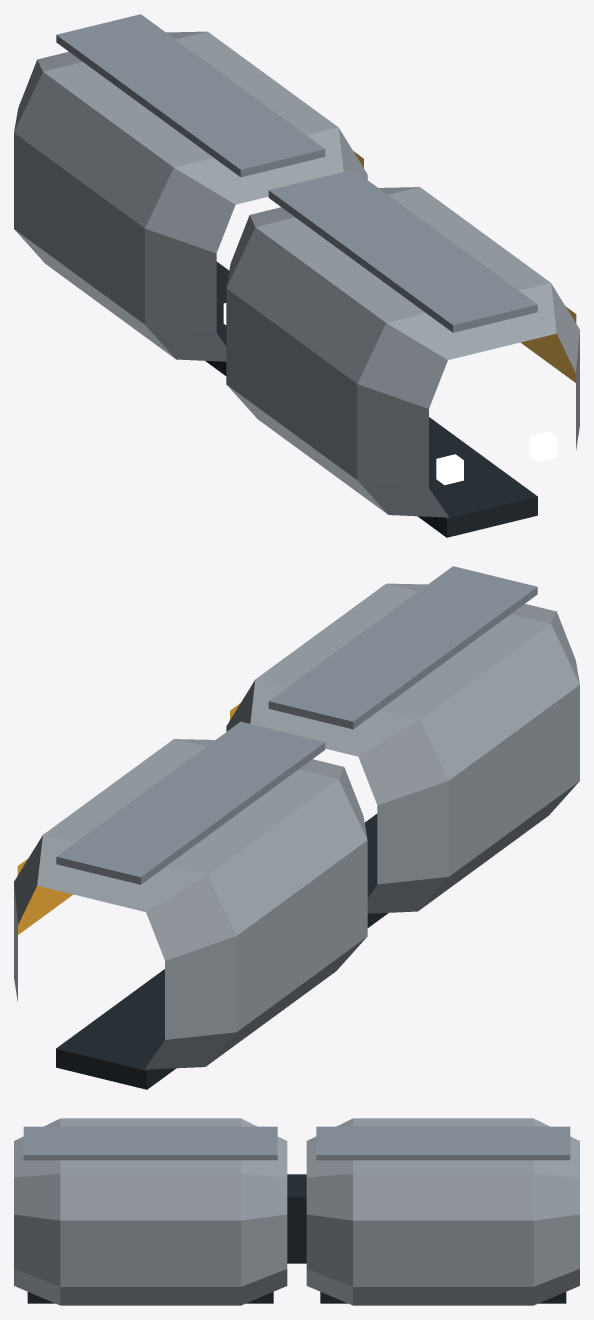
The model's file is mbta-train-orange.glb.
3 renders of one model, top to bottom at view 1: azimuth 30°, elevation 25°; view 2: azimuth 150°, elevation 25°; view 3: azimuth 270°, elevation 25°, orthographic. The views are drawn at different scales.
Visible parts, largest first — view 1: Car body, Roof and underframe, Head lamps, Window band; view 2: Car body, Roof and underframe, Window band; view 3: Car body, Roof and underframe.
Part boxes in pixels (<box>): Car body: <box>14,31,579,517</box>; Roof and underframe: <box>56,14,537,537</box>; Head lamps: <box>223,303,557,485</box>; Window band: <box>353,151,576,382</box>; Car body: <box>14,583,579,1069</box>; Roof and underframe: <box>56,566,537,1089</box>; Window band: <box>17,703,240,934</box>; Car body: <box>14,1118,579,1305</box>; Roof and underframe: <box>23,1126,570,1303</box>.
Bounding box in the file's own units: 0.00931 × 0.00845 × 0.0294.
